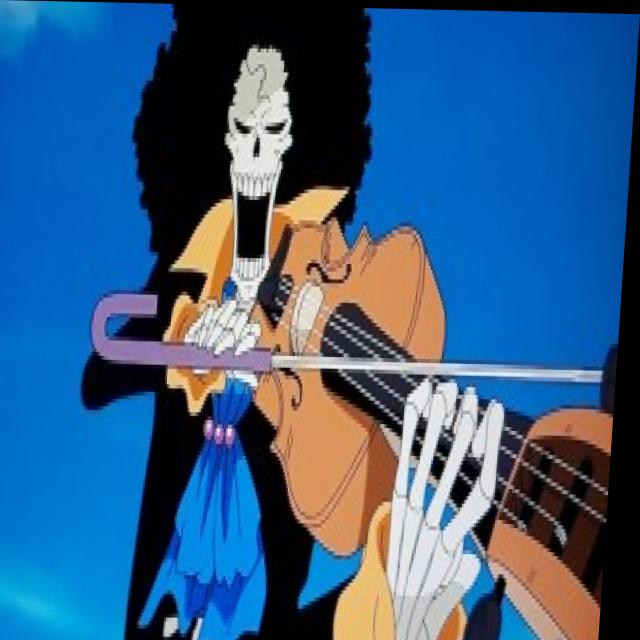Blook: (119, 2, 384, 317)
